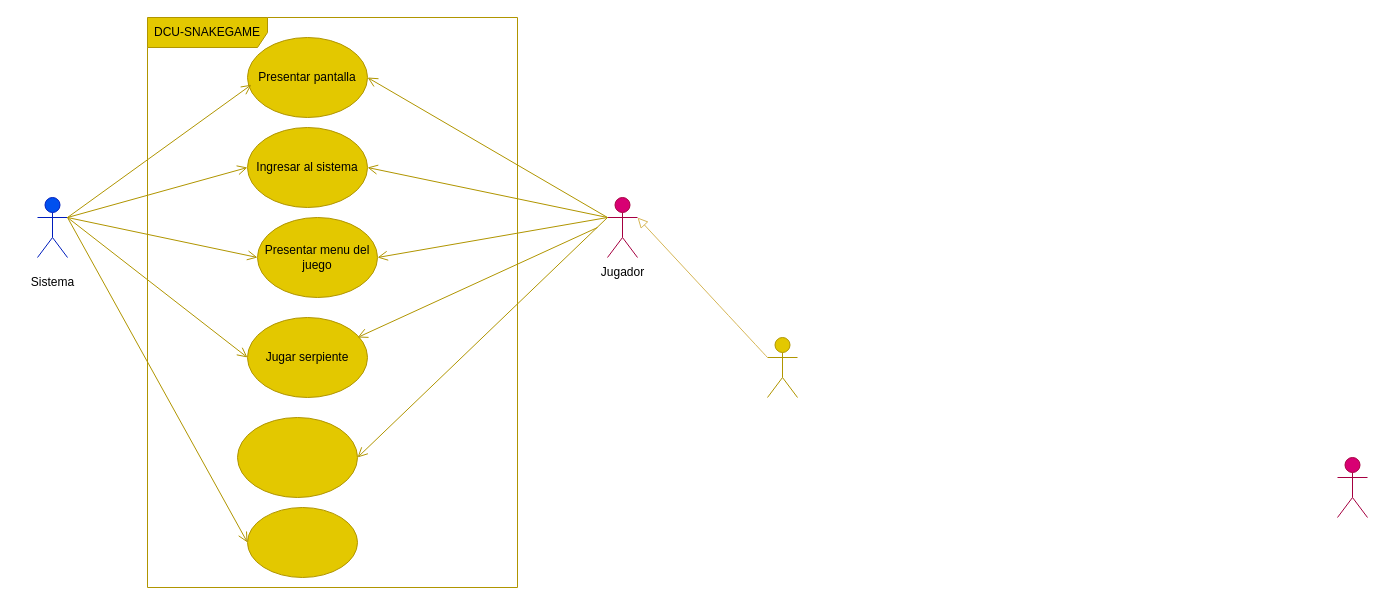
This 1386x605 diagram has some shape labels left out. Each missing label, with the centre of its shape:
"Palanca" belongs at (782,367).
"Usar Data base" belongs at (302,542).
"Validar las reglas del juego y definir si gana o pierde" belongs at (297,457).
